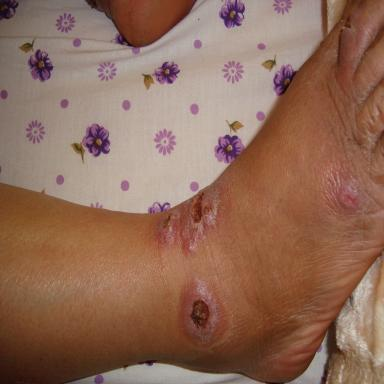Leishmanios: (155, 173, 229, 255), (181, 280, 221, 344)
